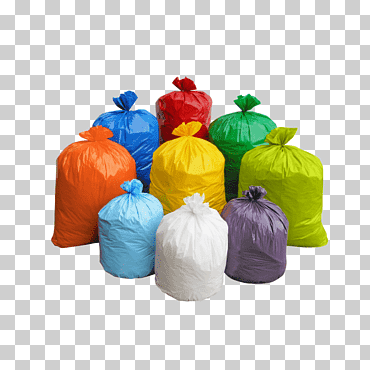plastic_bagwdw: (36, 63, 153, 297), (219, 112, 349, 301), (211, 160, 318, 330), (147, 176, 246, 354), (71, 47, 178, 204), (202, 41, 295, 207), (85, 157, 184, 308), (140, 56, 251, 179), (145, 96, 234, 230)
